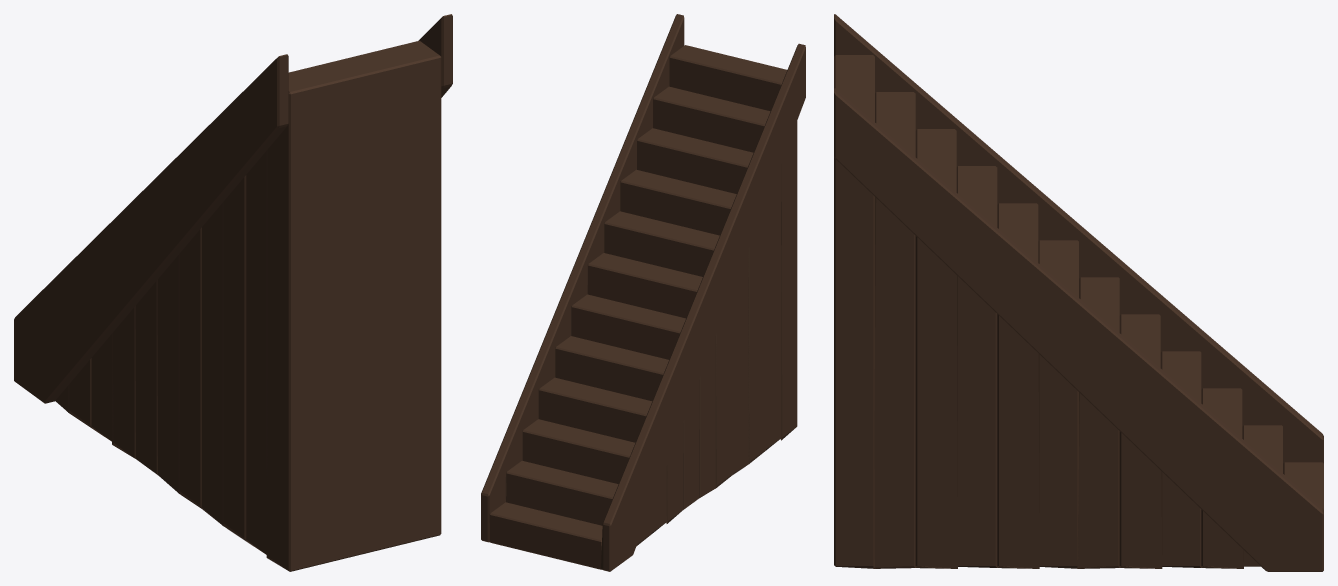
The model's file is stairs_straight.fbx.
3 renders of one model, left to right at view 1: azimuth 30°, elevation 25°; view 2: azimuth 150°, elevation 25°; view 3: azimuth 270°, elevation 25°, orthographic. The views are drawn at different scales.
Parts seen in each view (by area): view 1: stairs_straight; view 2: stairs_straight; view 3: stairs_straight.
Part boxes in pixels (box(x1,y1,x2,y2)): stairs_straight: box(14, 14, 452, 571); stairs_straight: box(481, 14, 805, 571); stairs_straight: box(834, 14, 1323, 571).
Size of the model in its own units: 460 by 1301 by 1200.
